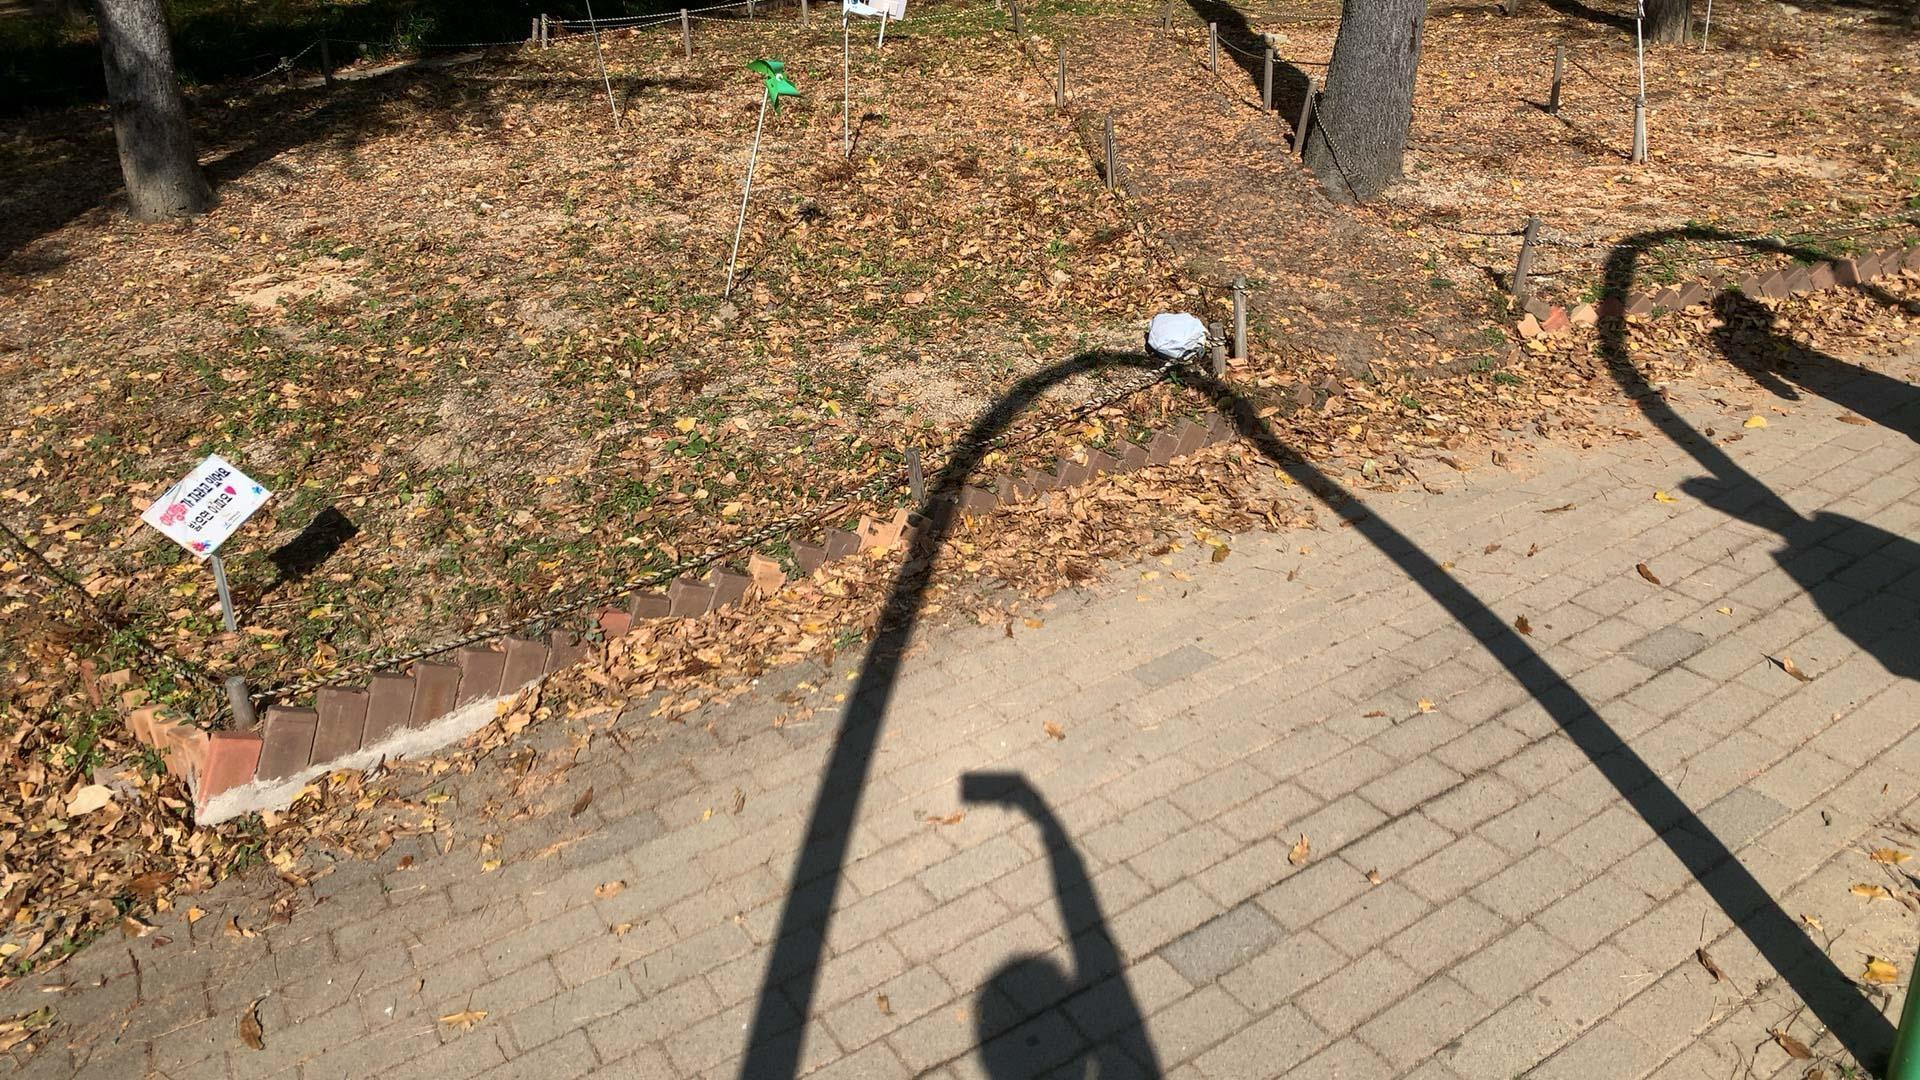white_bag: (1142, 309, 1213, 365)
